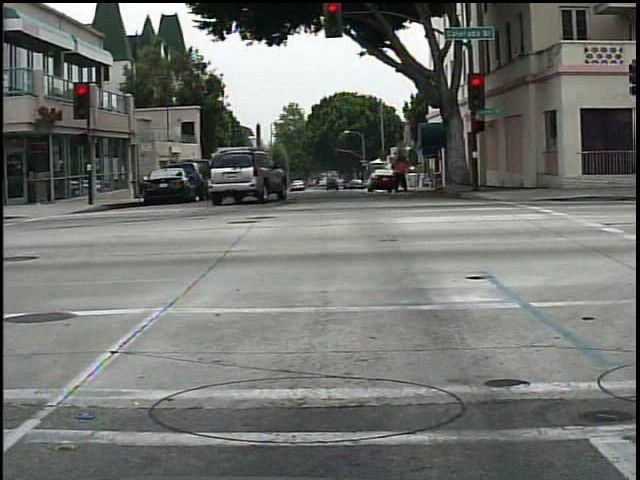person: (386, 151, 415, 199)
